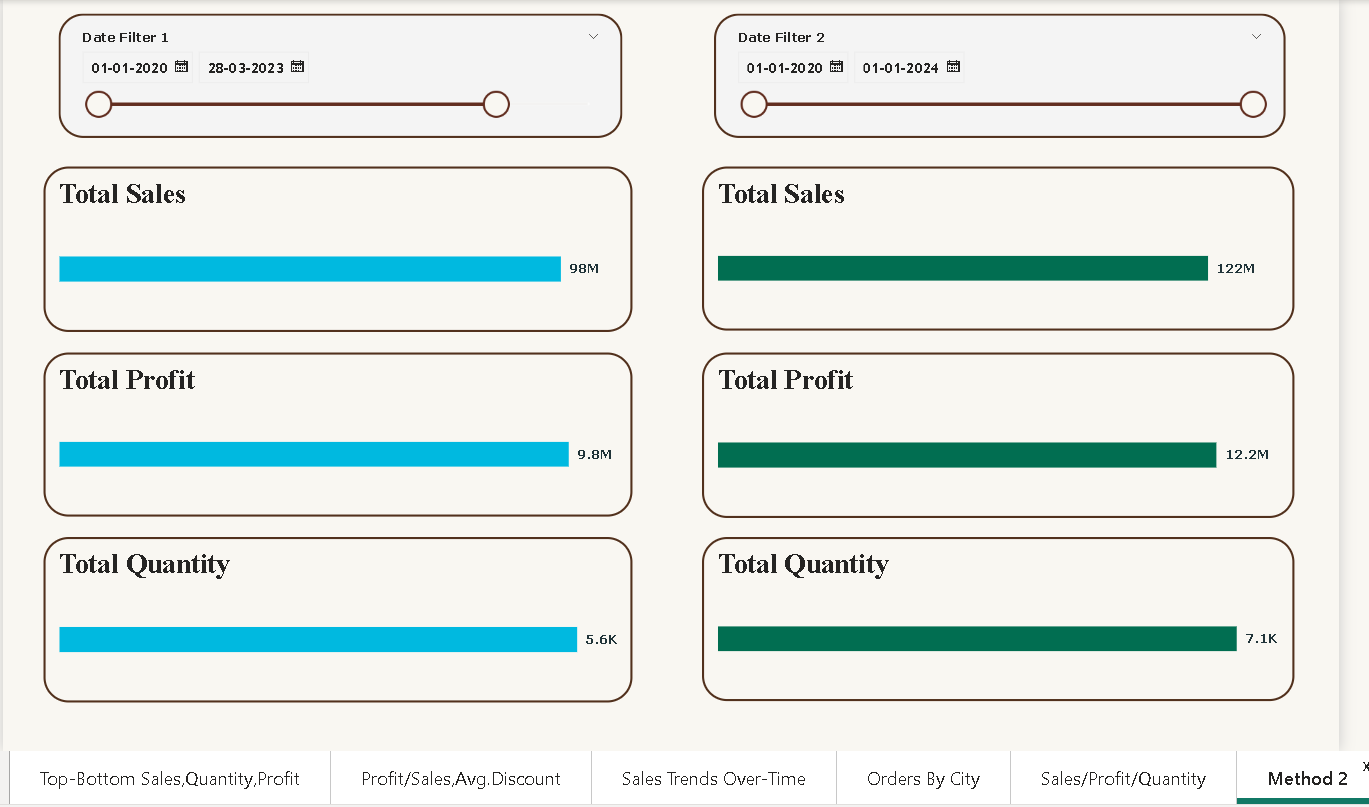

What the dashboard file says about the page in this screenshot:
{"tool":"powerbi","page":{"name":"Method 2","canvas":[1280,720],"ordinal":5},"visuals":[{"type":"slicer","fields":{"Values":["Fact Table.Date (dd/mm/yyyy)"]},"box":[53,13.6,540.6,119.6],"z":0},{"type":"slicer","fields":{"Values":["Fact Table.Date (dd/mm/yyyy)"]},"box":[681.4,13.6,548.1,119.6],"z":1000},{"type":"barChart","title":"Total Sales","fields":{"Y":["Sum(Fact Table.Net Sales)"]},"box":[39.4,159,564.8,159],"z":2000},{"type":"barChart","title":"Total Quantity","fields":{"Y":["Sum(Fact Table.Units Sold)"]},"box":[39.4,514.8,564.8,159],"z":3000},{"type":"barChart","title":"Total Profit","fields":{"Y":["Sum(Fact Table.Profit)"]},"box":[39.4,337.7,564.8,157.5],"z":4000},{"type":"barChart","title":"Total Sales","fields":{"Y":["Sum(Fact Table.Net Sales)"]},"box":[670.8,159,567.8,157.5],"z":5000},{"type":"barChart","title":"Total Quantity","fields":{"Y":["Sum(Fact Table.Units Sold)"]},"box":[670.8,514.8,567.8,157.5],"z":6000},{"type":"barChart","title":"Total Profit","fields":{"Y":["Sum(Fact Table.Profit)"]},"box":[670.8,337.7,567.8,159],"z":7000}]}

Visuals, with their boxes in screenshot pixels (x1, y1, x2, y2):
slicer - Fact Table.Date (dd/mm/yyyy): 49,7,619,133
slicer - Fact Table.Date (dd/mm/yyyy): 712,7,1290,133
"Total Sales" barChart: 34,161,630,328
"Total Quantity" barChart: 34,536,630,704
"Total Profit" barChart: 34,349,630,515
"Total Sales" barChart: 700,161,1299,327
"Total Quantity" barChart: 700,536,1299,702
"Total Profit" barChart: 700,349,1299,517
